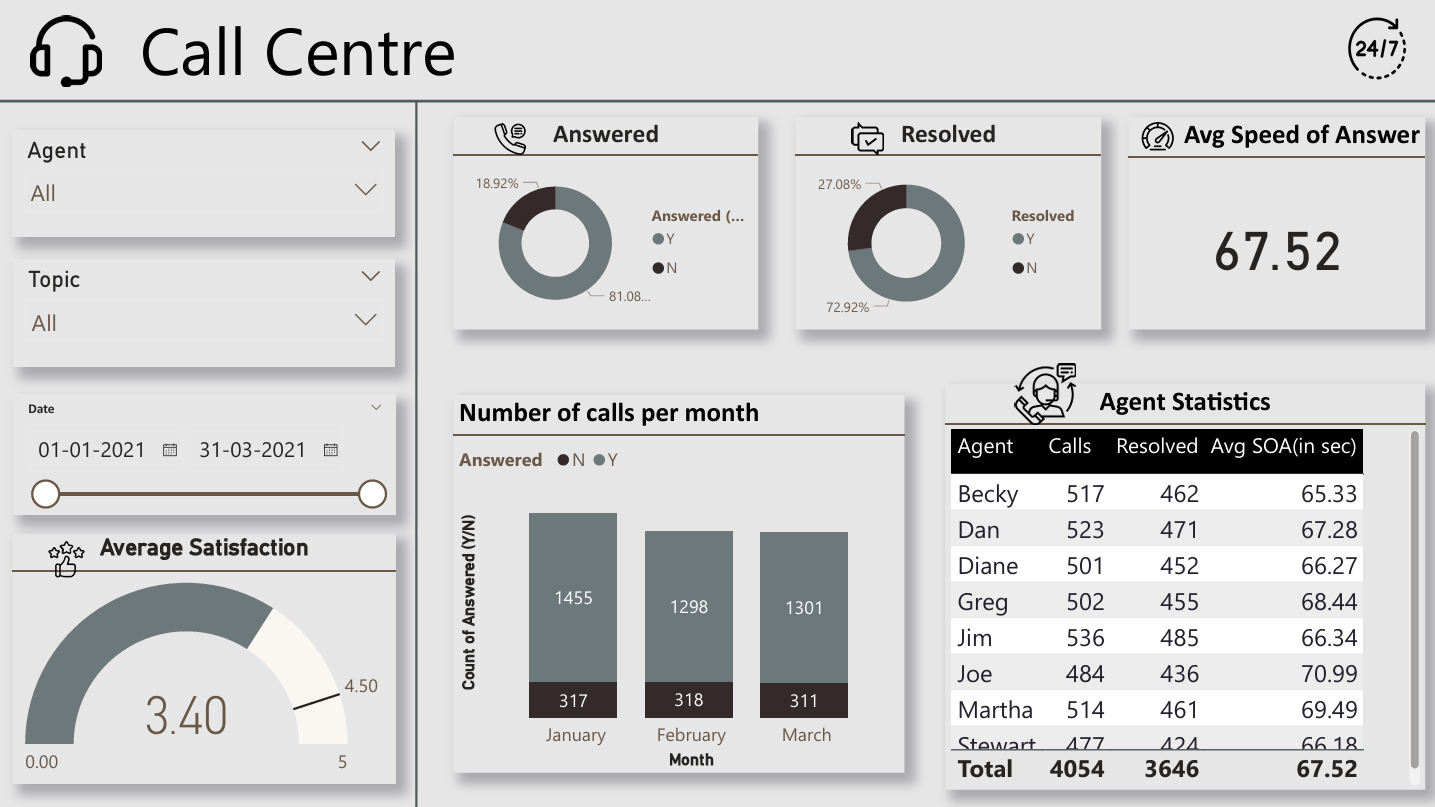

This screenshot's page, from the dashboard's own definition file:
{"tool":"powerbi","page":{"name":"Call Centre Agent Analysis","canvas":[1280,720],"ordinal":0},"visuals":[{"type":"textbox","box":[0,0,1279.7,90.9],"z":0},{"type":"shape","box":[0,83.7,1279.7,13],"z":1000},{"type":"shape","box":[0,91,371.2,628.6],"z":2000},{"type":"shape","box":[370.8,90.9,908.9,629],"z":3000},{"type":"slicer","fields":{"Values":["Sheet1.Agent"]},"box":[12.5,117.5,339.9,94.3],"z":4000},{"type":"slicer","fields":{"Values":["Sheet1.Topic"]},"box":[13,232.3,339,95.2],"z":5000},{"type":"slicer","fields":{"Values":["Sheet1.Date"]},"box":[13,352,340.5,106.8],"z":6000},{"type":"gauge","title":"Average Satisfaction","fields":{"Y":["Sheet1.Satisfaction rating"],"MaxValue":["Sheet1.Satisfaction rating"],"TargetValue":["Sheet1.target"]},"box":[11.5,474.7,341.9,223.6],"z":7000},{"type":"donutChart","title":"Answered","fields":{"Category":["Sheet1.Answered (Y/N)"],"Y":["Sheet1.Answered (Y/N)"]},"box":[404,105.3,271.2,189],"z":8000},{"type":"donutChart","title":"Resolved","fields":{"Category":["Sheet1.Resolved"],"Y":["Sheet1.Resolved"]},"box":[708.4,105.3,271.2,189],"z":9000},{"type":"card","title":"   Avg Speed of Answer","fields":{"Values":["Sheet1.Speed of answer in seconds"]},"box":[1004.2,105.3,264,189],"z":10000},{"type":"columnChart","title":"Number of calls per month","fields":{"Category":["Sheet1.Date.Variation.Date Hierarchy.Month"],"Y":["Sheet1.Answered (Y/N)"],"Series":["Sheet1.Answered (Y/N)"]},"box":[404,352,401.1,336.2],"z":11000},{"type":"tableEx","title":"Agent Statistics","fields":{"Values":["Sheet1.Agent","Sheet1.CallsAnsweredByAgent","Sheet1.ResolvedbyA","Sheet1.Speed of answer in seconds"]},"box":[841.1,341.9,427.1,360.7],"z":12000},{"type":"image","box":[23.1,8.7,73.6,75],"z":13000},{"type":"image","box":[431.4,105.3,46.2,39],"z":14000},{"type":"image","box":[748.8,105.3,46.2,39],"z":15000},{"type":"image","box":[1004.2,99.6,50.5,44.7],"z":16000},{"type":"image","box":[897.4,318.9,66.4,64.9],"z":17000},{"type":"image","box":[30.3,474.7,59.2,46.2],"z":18000},{"type":"image","box":[1194.6,8.7,63.5,66.4],"z":19000}]}

Visuals, with their boxes in screenshot pixels (x1, y1, x2, y2), scaled from the page's 1280x720 canvas onto the 1435x807 screenshot:
textbox: {"x1": 0, "y1": 0, "x2": 1434, "y2": 102}
shape: {"x1": 0, "y1": 94, "x2": 1434, "y2": 108}
shape: {"x1": 0, "y1": 102, "x2": 416, "y2": 806}
shape: {"x1": 416, "y1": 102, "x2": 1434, "y2": 806}
slicer - Sheet1.Agent: {"x1": 14, "y1": 132, "x2": 395, "y2": 237}
slicer - Sheet1.Topic: {"x1": 15, "y1": 260, "x2": 395, "y2": 367}
slicer - Sheet1.Date: {"x1": 15, "y1": 395, "x2": 396, "y2": 514}
"Average Satisfaction" gauge: {"x1": 13, "y1": 532, "x2": 396, "y2": 783}
"Answered" donutChart: {"x1": 453, "y1": 118, "x2": 757, "y2": 330}
"Resolved" donutChart: {"x1": 794, "y1": 118, "x2": 1098, "y2": 330}
"   Avg Speed of Answer" card: {"x1": 1126, "y1": 118, "x2": 1422, "y2": 330}
"Number of calls per month" columnChart: {"x1": 453, "y1": 395, "x2": 903, "y2": 771}
"Agent Statistics" tableEx: {"x1": 943, "y1": 383, "x2": 1422, "y2": 787}
image: {"x1": 26, "y1": 10, "x2": 108, "y2": 94}
image: {"x1": 484, "y1": 118, "x2": 535, "y2": 162}
image: {"x1": 839, "y1": 118, "x2": 891, "y2": 162}
image: {"x1": 1126, "y1": 112, "x2": 1182, "y2": 162}
image: {"x1": 1006, "y1": 357, "x2": 1081, "y2": 430}
image: {"x1": 34, "y1": 532, "x2": 100, "y2": 584}
image: {"x1": 1339, "y1": 10, "x2": 1410, "y2": 84}
